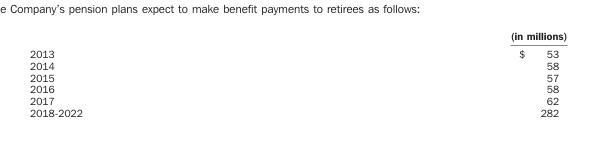table: (28, 29, 566, 118)
table column: (295, 29, 566, 118), (28, 29, 295, 118)
table column header: (28, 29, 566, 44)
table row: (28, 29, 566, 44), (28, 44, 566, 59), (28, 59, 566, 71), (28, 82, 566, 94), (28, 94, 566, 106), (28, 106, 566, 118), (28, 71, 566, 82)
